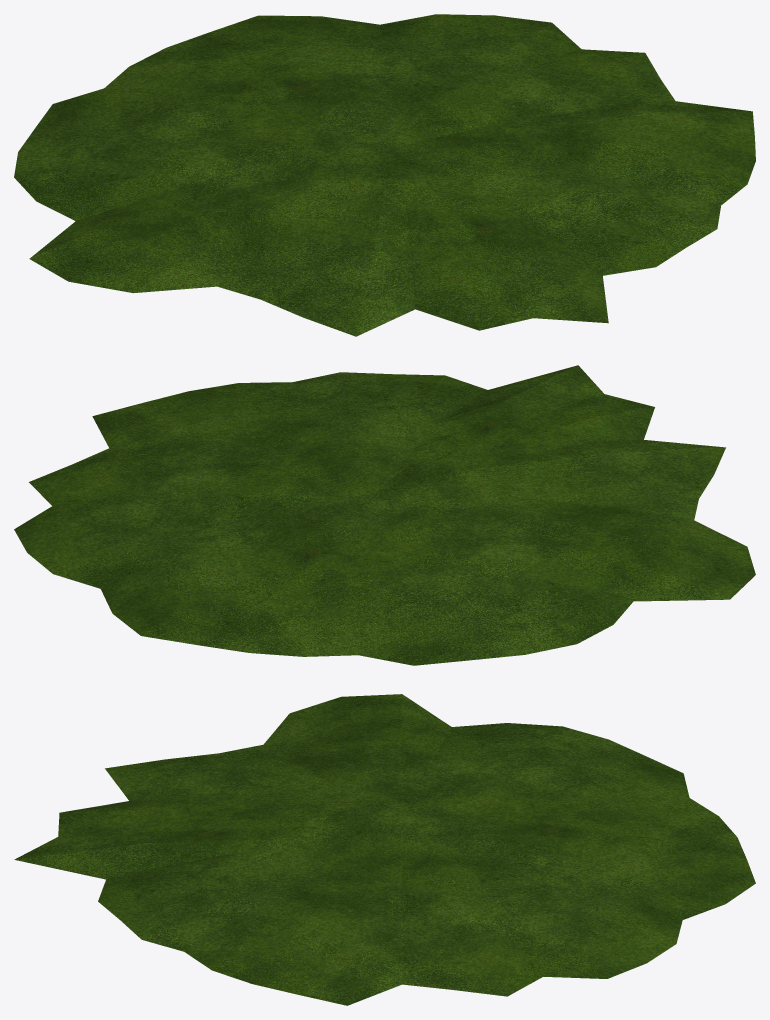
The model's file is feather_moss_v01.glb.
3 renders of one model, top to bottom at view 1: azimuth 30°, elevation 25°; view 2: azimuth 150°, elevation 25°; view 3: azimuth 270°, elevation 25°, orthographic. The views are drawn at different scales.
Visible parts, largest first — view 1: feather_moss_v01; view 2: feather_moss_v01; view 3: feather_moss_v01.
Part boxes in pixels (x1,y1,x2,y2): feather_moss_v01: (14, 14, 755, 336); feather_moss_v01: (14, 365, 755, 665); feather_moss_v01: (14, 694, 755, 1005).
Bounding box in the file's own units: 0.8144 × 0.0325 × 0.819.
Materials: 1 (1 with a texture image).
